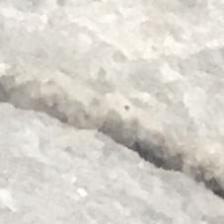Crack: (0, 69, 224, 222)
